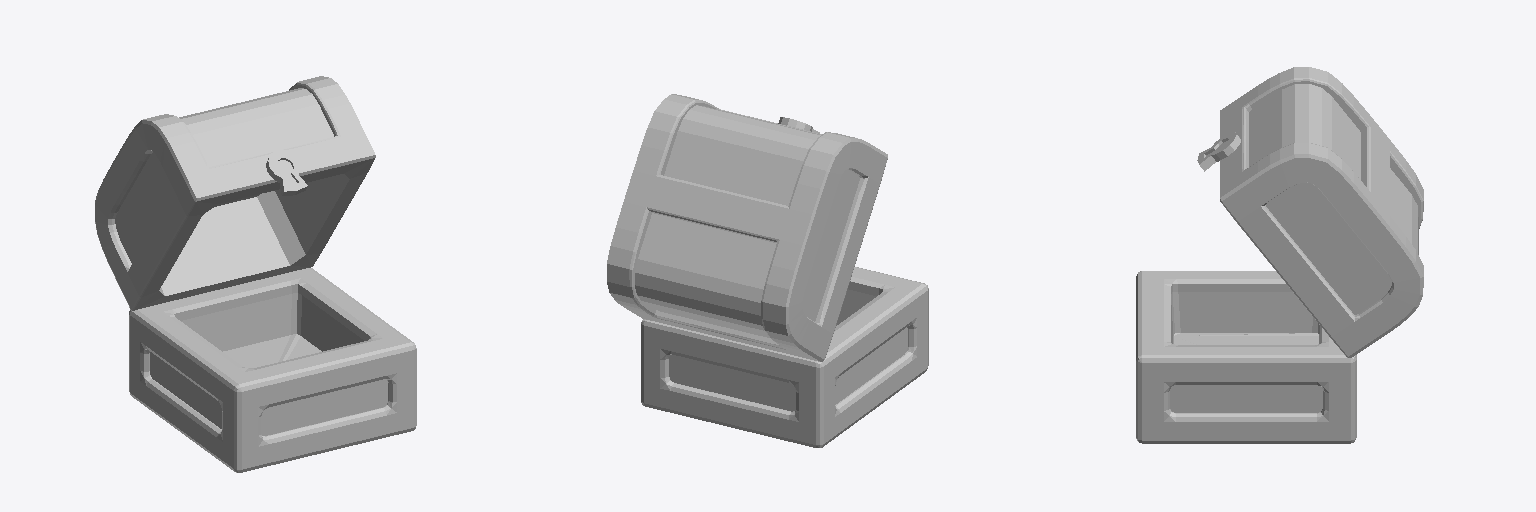
Rendered from Chest_Open.obj.
3 views of the same model, side by side, from view 1: azimuth 30°, elevation 25°; view 2: azimuth 150°, elevation 25°; view 3: azimuth 270°, elevation 25° (orthographic).
Visible parts, largest first — view 1: Chest_Open_Cube.035; view 2: Chest_Open_Cube.035; view 3: Chest_Open_Cube.035.
Part boxes in pixels (x1,y1,x2,y2): Chest_Open_Cube.035: (95,76,416,472); Chest_Open_Cube.035: (607,94,928,447); Chest_Open_Cube.035: (1136,67,1423,443).
Size of the model in its own units: 1.84 by 2.8 by 2.51.